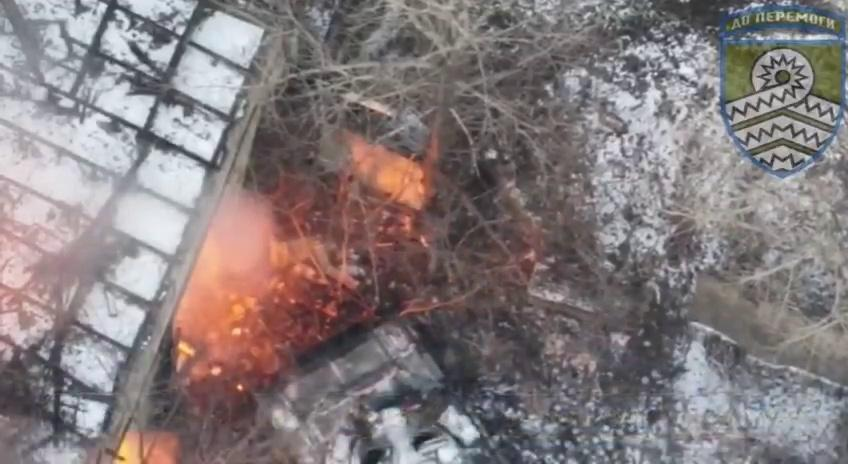vehicle: (248, 315, 508, 464)
